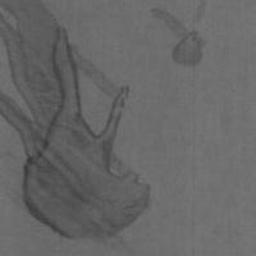Water spot: (0, 0, 154, 242), (148, 0, 210, 68)
